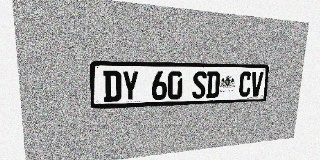0: (167, 71, 183, 100)
6: (151, 71, 167, 100)
C: (238, 71, 252, 97)
D: (103, 70, 121, 102), (206, 71, 220, 98)
S: (192, 71, 207, 99)
V: (250, 72, 263, 96)
Y: (122, 70, 139, 101)
